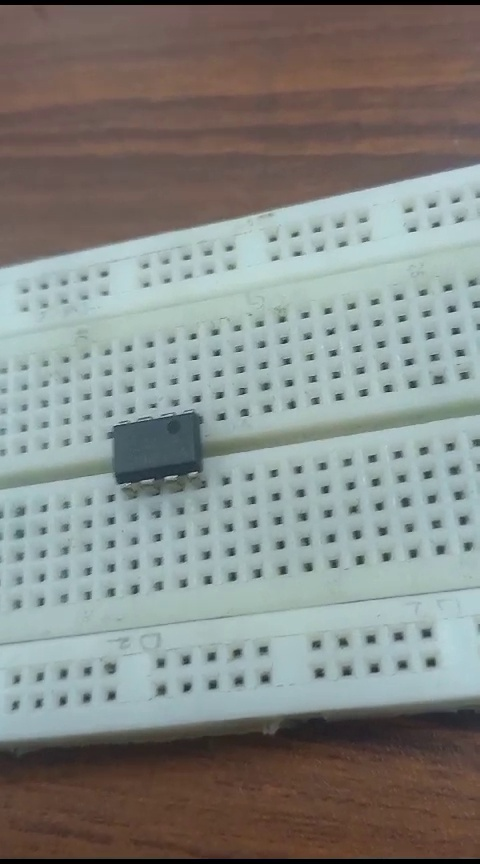IC: (102, 404, 228, 493)
